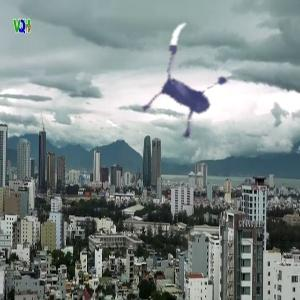drone: (128, 20, 264, 156)
